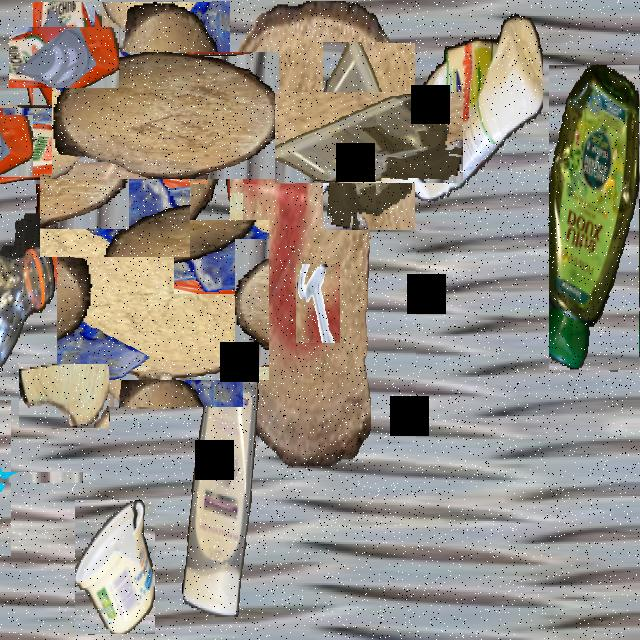glass: (56, 157, 174, 273), (21, 14, 107, 100), (72, 93, 150, 170), (0, 436, 47, 519)
metal: (233, 102, 305, 175), (296, 265, 340, 343)
plastic: (384, 2, 542, 215), (0, 52, 156, 235), (549, 66, 639, 372), (299, 67, 439, 207), (181, 366, 259, 615), (0, 213, 55, 423), (75, 500, 155, 634)
wood: (212, 1, 416, 468), (70, 207, 256, 394), (77, 27, 255, 204), (19, 364, 109, 428)
